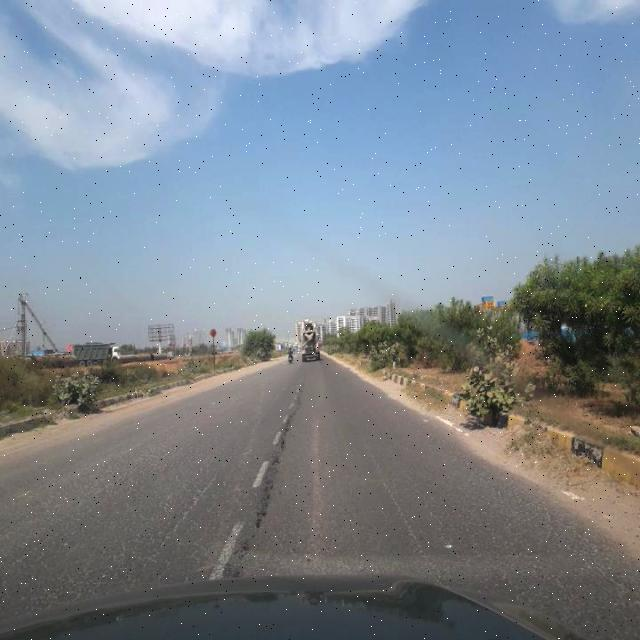D00: (1, 438, 619, 590), (151, 456, 229, 574), (371, 444, 431, 580)
